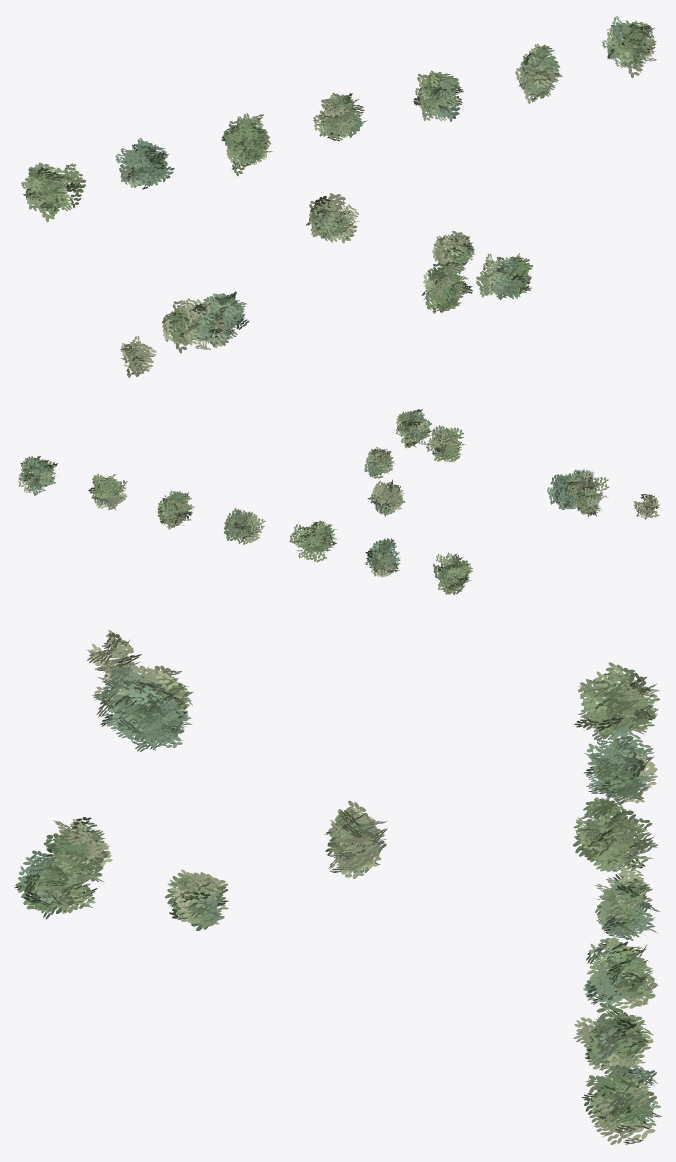
Rendered from campus-tree--4_-4-far.glb.
The picture shows the model from 3 angles, top to bottom: view 1: azimuth 30°, elevation 25°; view 2: azimuth 150°, elevation 25°; view 3: azimuth 270°, elevation 25°; orthographic projection. The views are drawn at different scales.
Parts seen in each view (by area): view 1: Campus leaf canopy; view 2: Campus leaf canopy; view 3: Campus leaf canopy.
Part boxes in pixels (left/top/right/bottom): Campus leaf canopy: left=21, top=16, right=656, bottom=377; Campus leaf canopy: left=18, top=409, right=659, bottom=594; Campus leaf canopy: left=14, top=630, right=661, bottom=1144.
Size of the model in its own units: 83.14 by 7.58 by 46.4.
Materials: 1 (1 with a texture image).
